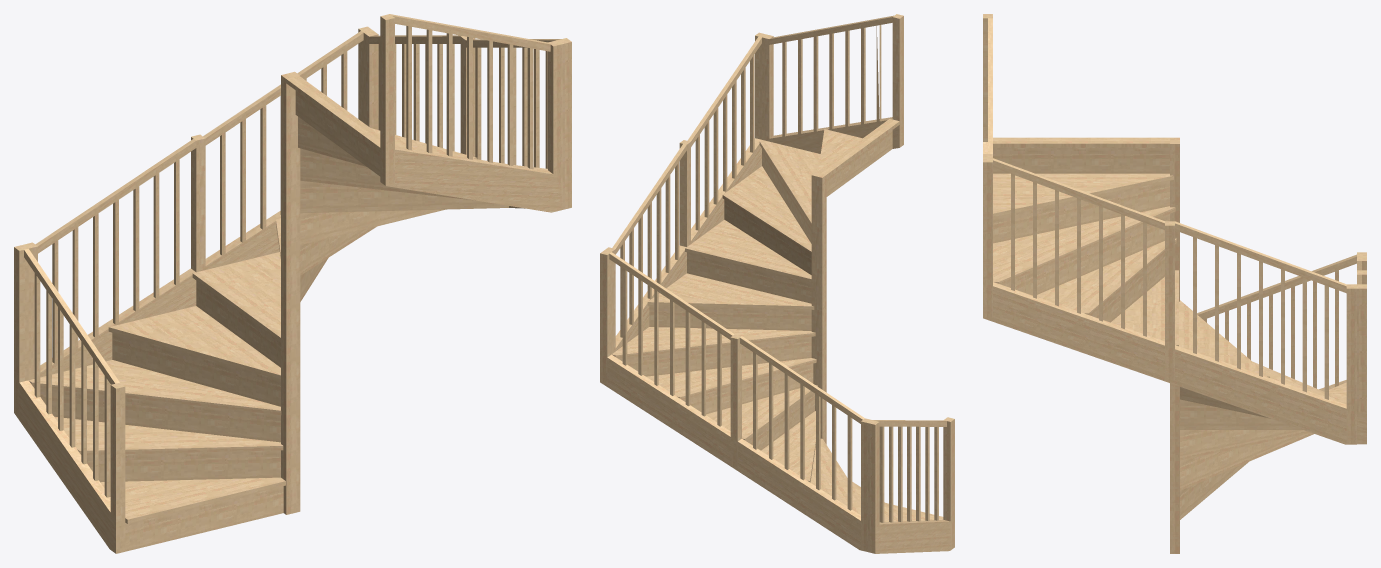
The model's file is sweethome3d-contributions-triple-winder-staircase-446.glb.
The picture shows the model from 3 angles, left to right: view 1: azimuth 30°, elevation 25°; view 2: azimuth 150°, elevation 25°; view 3: azimuth 270°, elevation 25°; orthographic projection. The views are drawn at different scales.
Parts seen in each view (by area): view 1: 72_72, 10_10, 83_83, 91_91, 15_15, 16_16, 14_14; view 2: 72_72, 83_83, 91_91, 10_10, 16_16, 15_15, 14_14; view 3: 10_10, 83_83, 72_72, 91_91, 16_16, 15_15, 14_14.
Part boxes in pixels (x1,y1,x2,y2): 72_72: (14,14,571,553); 10_10: (34,90,495,551); 83_83: (29,110,547,523); 91_91: (14,146,571,553); 15_15: (281,71,300,514); 16_16: (24,14,561,384); 14_14: (283,76,380,151); 72_72: (600,14,954,553); 83_83: (612,129,943,521); 91_91: (600,117,953,553); 10_10: (618,130,892,482); 16_16: (609,15,946,426); 15_15: (811,172,826,444); 14_14: (817,119,899,179); 10_10: (993,148,1303,515); 83_83: (993,173,1346,519); 72_72: (983,14,1366,443); 91_91: (983,142,1366,444); 16_16: (988,18,1361,319); 15_15: (1170,137,1179,553); 14_14: (993,137,1169,147).
Bounding box in the file's own units: 225 × 345 × 225.
Materials: 5 (5 with a texture image).
